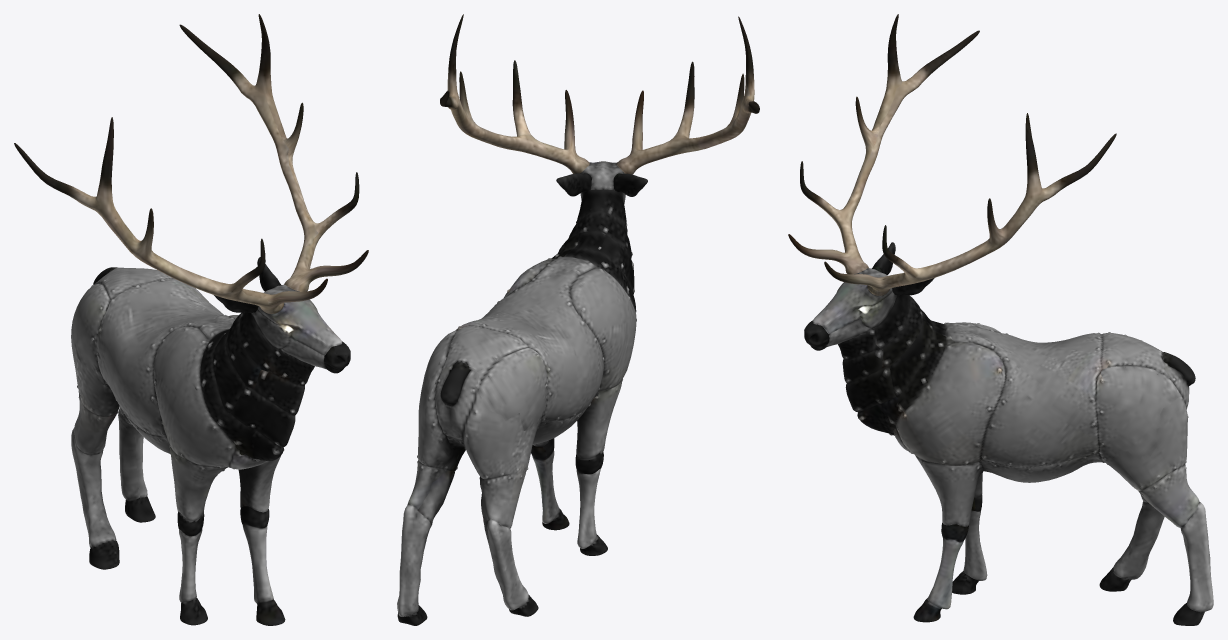
The model's file is MZ4250 - Wrath of the Iron Heart.glb.
The picture shows the model from 3 angles, left to right: view 1: azimuth 30°, elevation 25°; view 2: azimuth 150°, elevation 25°; view 3: azimuth 270°, elevation 25°; orthographic projection. The views are drawn at different scales.
Parts seen in each view (by area): view 1: Elk v2 v4 Original.001; view 2: Elk v2 v4 Original.001; view 3: Elk v2 v4 Original.001.
Boxes of the visible parts, x1,y1,x2,y2 form: Elk v2 v4 Original.001: [14, 14, 368, 625]; Elk v2 v4 Original.001: [397, 14, 759, 625]; Elk v2 v4 Original.001: [788, 14, 1213, 625].
Bounding box in the file's own units: 107 × 193 × 142.
1 material, 1 textured.
